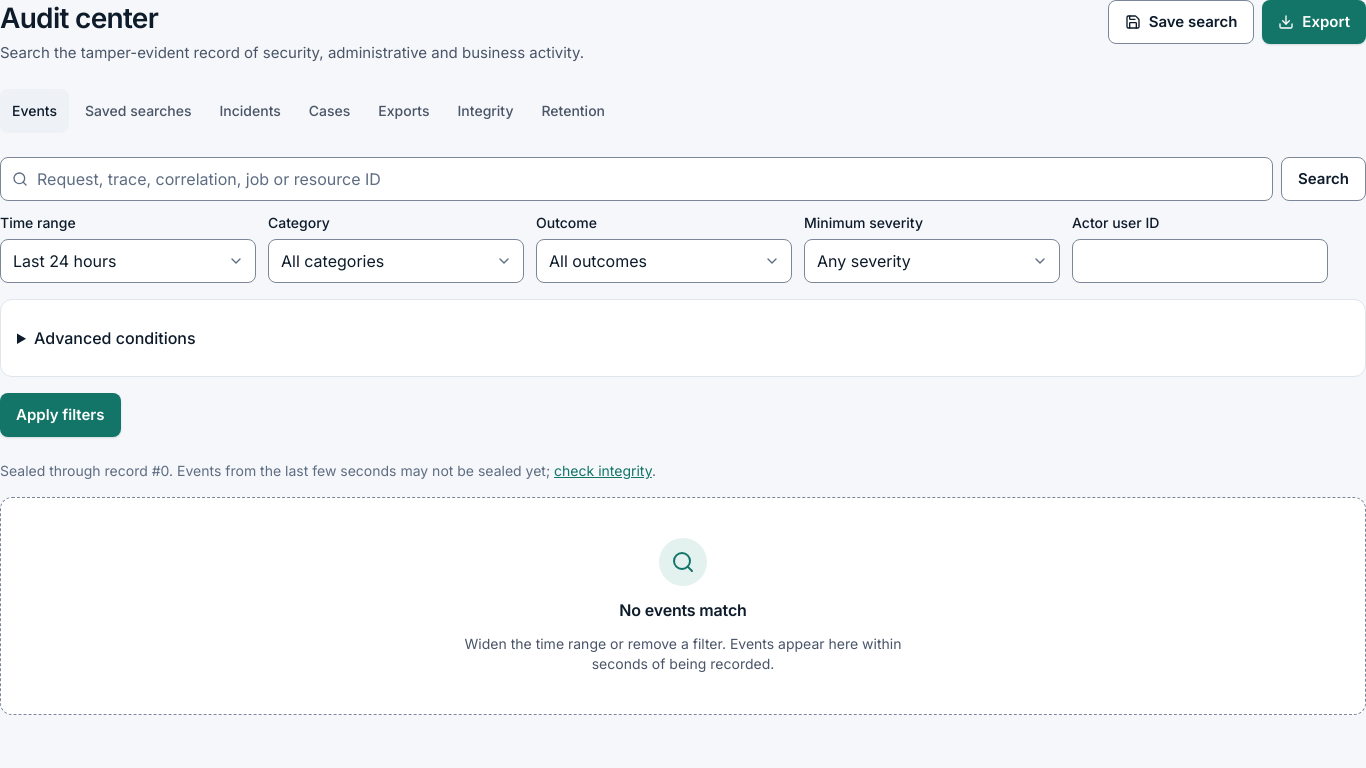
Scenario: audit center page › rejects malformed IDs client-side without sending a query
Expected: the heading "No events match" is shown, [619,598,747,622]
In the search field named "Find by ID": [637, 179] box [0,157,1273,201], type "bad value; drop"
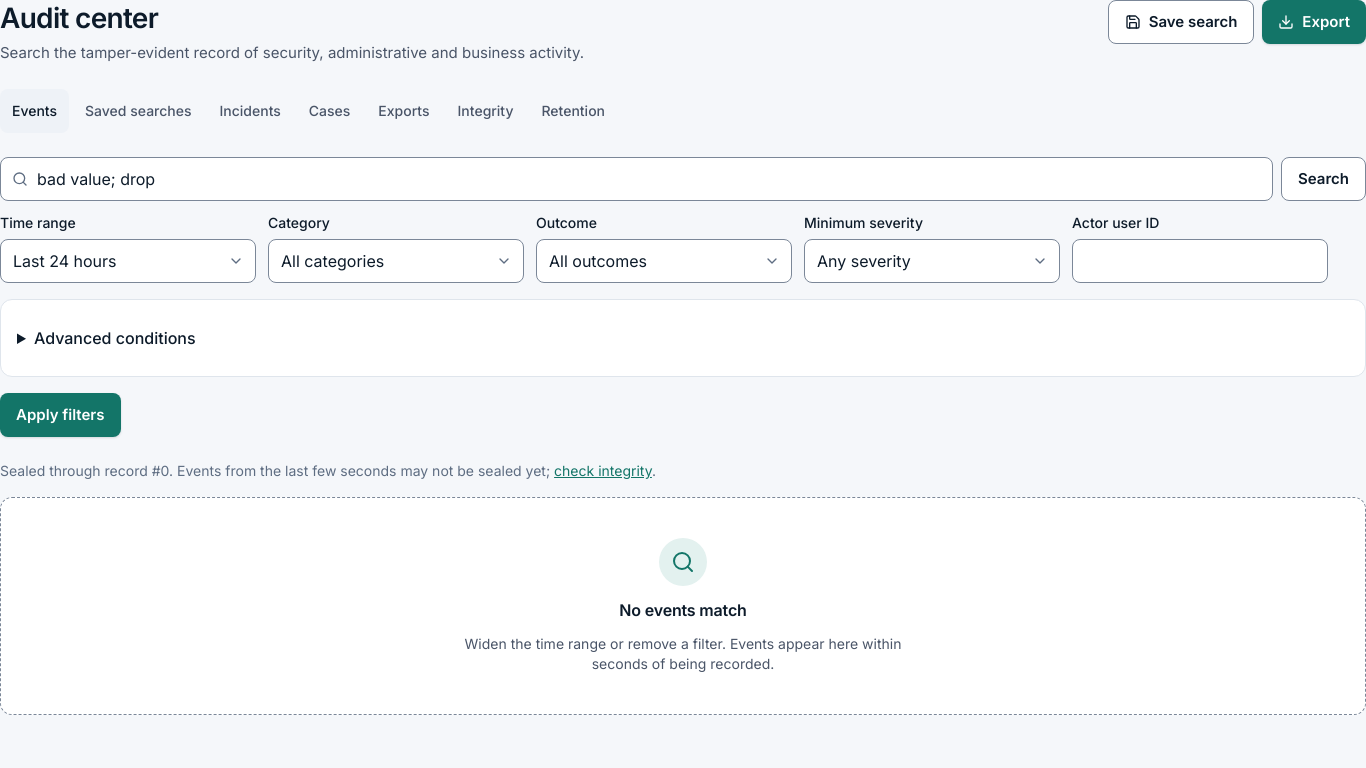
Click the button "Apply filters": [60, 415] box [0,393,120,437]
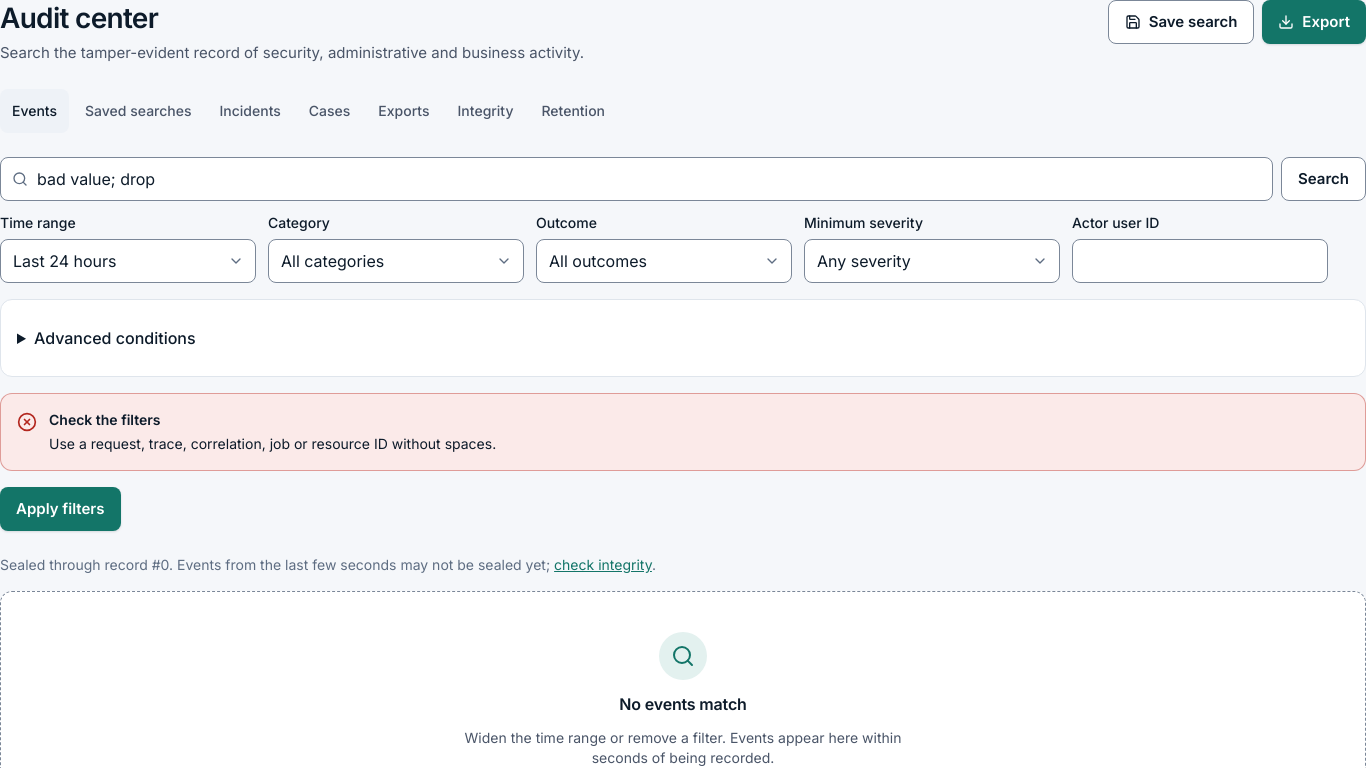
Expected: the text "without spaces" is shown, [49,435,496,452]
